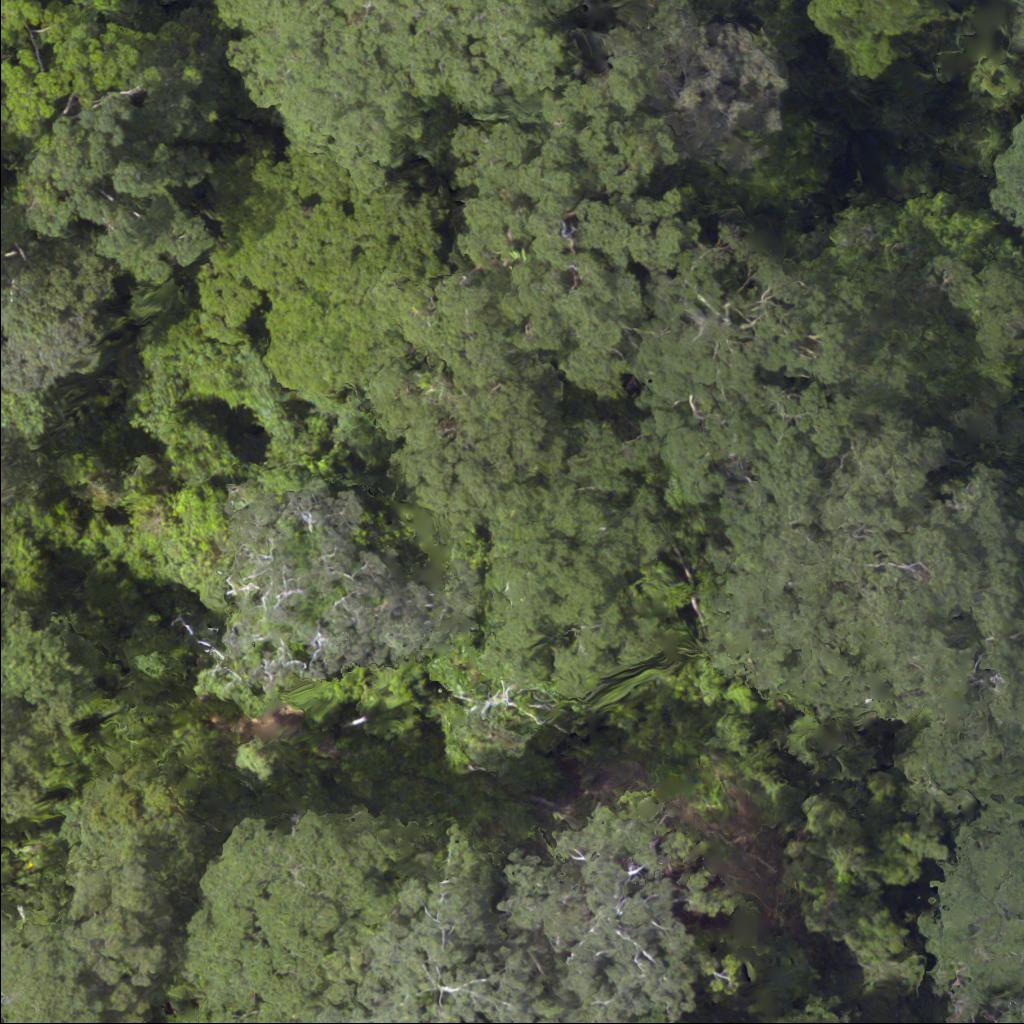crown: (200, 468, 461, 704), (193, 152, 447, 394), (365, 273, 572, 530), (185, 813, 406, 1023), (311, 845, 564, 1023), (15, 88, 220, 284), (0, 695, 51, 821), (0, 451, 12, 513)
